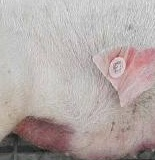text: (100, 50, 134, 85)
